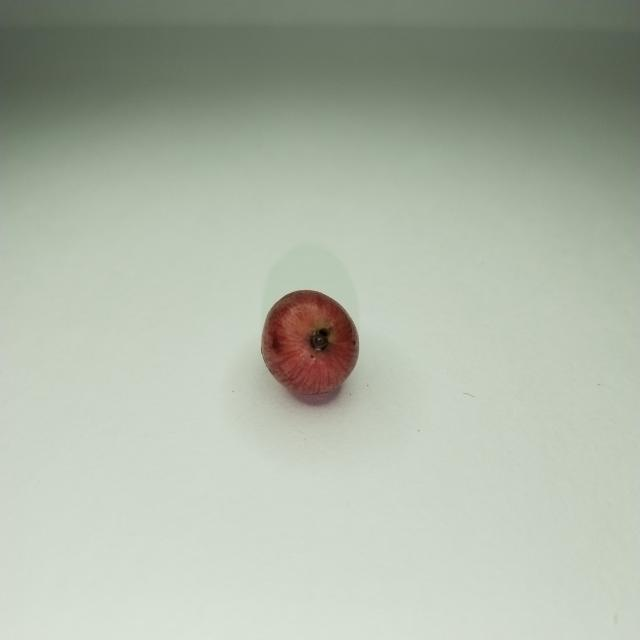Infectado: (259, 291, 360, 406)
